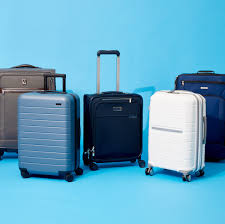suitcase: (81, 47, 146, 172), (16, 71, 85, 183), (142, 88, 208, 183), (1, 63, 60, 159), (170, 70, 225, 165)
